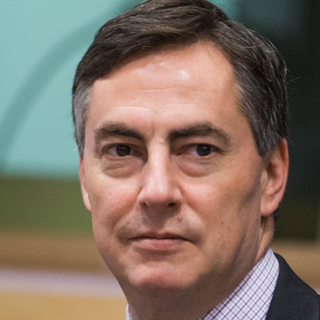eye: (175, 139, 225, 164), (98, 139, 142, 165)
